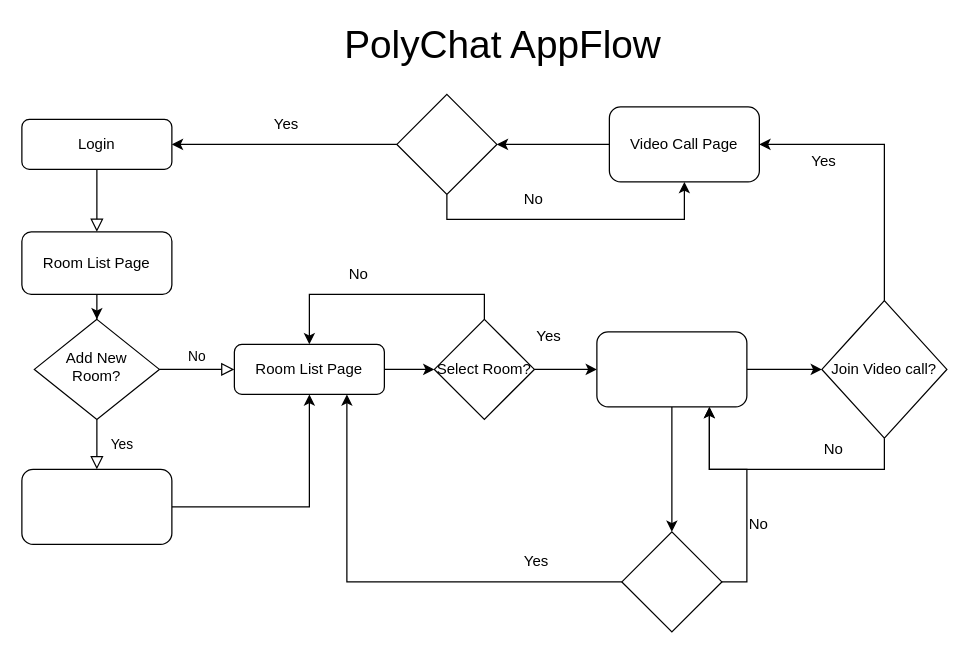
This 969x654 diagram has some shape labels left out. Here are the shapes that lost their labels. From the top down, the box of each, then its label:
(396, 93, 497, 194): Leave call?
(596, 331, 747, 407): Chat Room
(21, 468, 172, 544): Add Room Page
(621, 531, 722, 632): Exit Chat?
